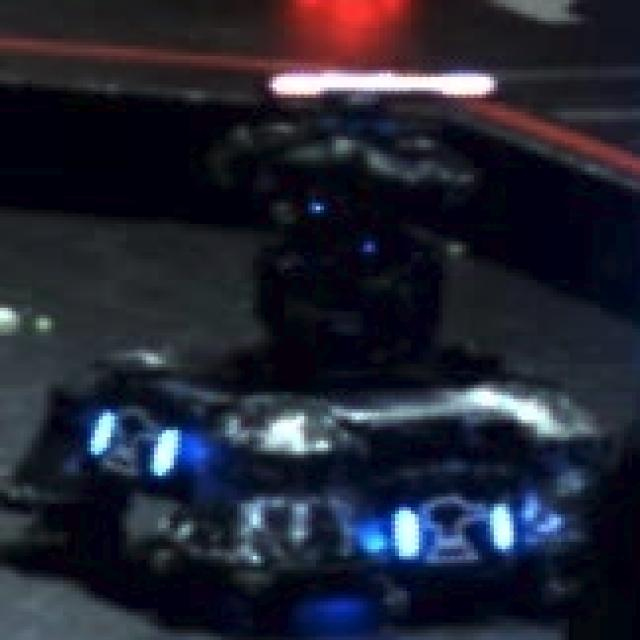Bs: (383, 497, 522, 563), (87, 406, 174, 479)
